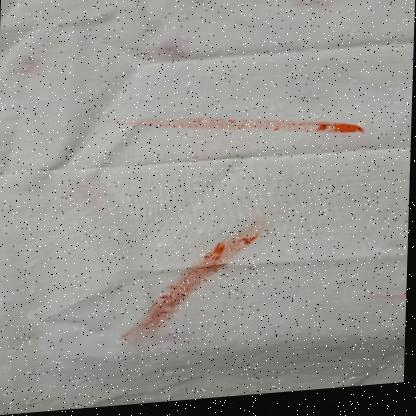spot: (118, 219, 272, 340), (81, 124, 373, 145), (287, 0, 328, 16), (357, 299, 407, 308), (161, 43, 183, 61)
